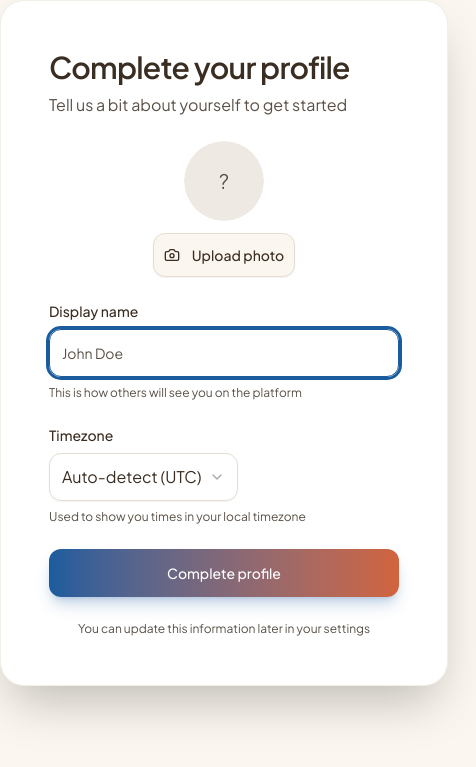
Test: CompleteProfilePage › displays validation error for display name that is too short
This screenshot has width=476, height=767.
Type "Jo" into the field labelled "Display name". click: (224, 353)
box: 49,329 -> 399,377
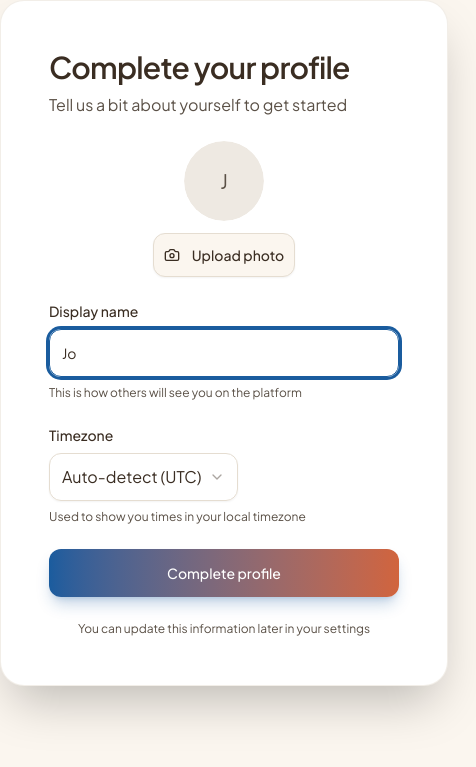
Click the button "Complete profile". click: (224, 573)
box: 49,549 -> 399,597
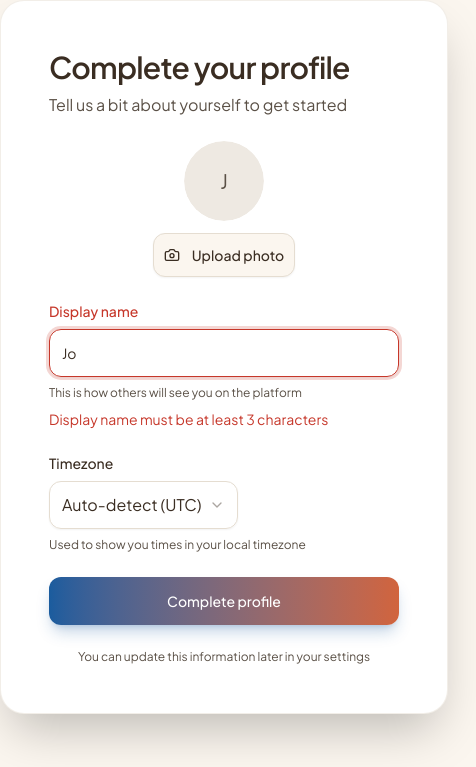
Result: the text "Display name must be at least 3 characters" is shown at 49,410 -> 328,428
